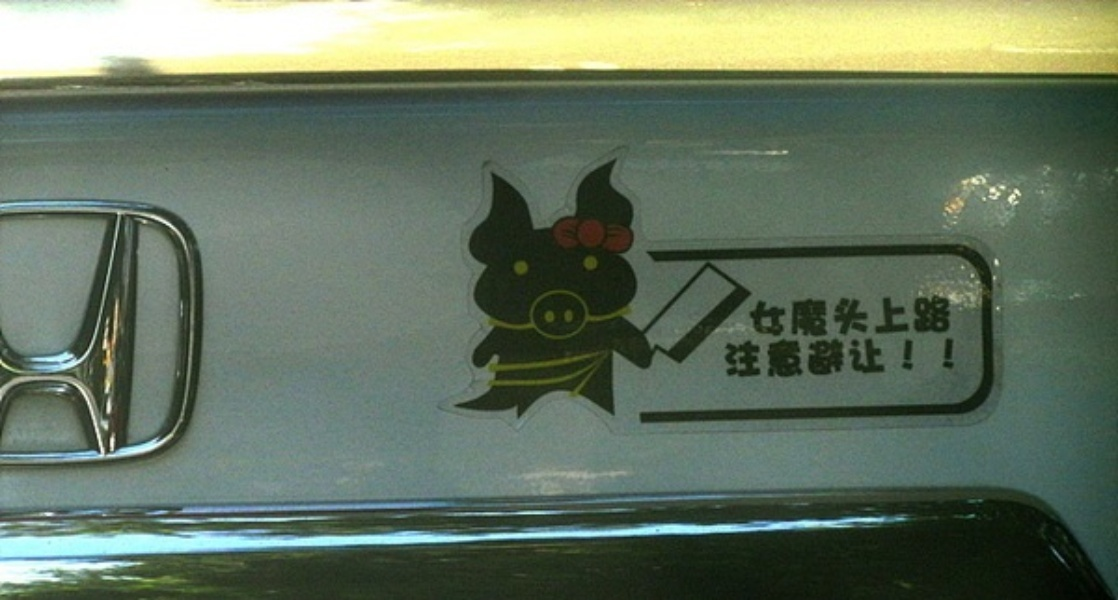text: (737, 332, 752, 384), (753, 332, 768, 384), (769, 332, 784, 384), (785, 332, 800, 384), (801, 332, 816, 384), (817, 332, 832, 384), (833, 332, 848, 384), (849, 332, 864, 384), (865, 332, 880, 384), (881, 332, 896, 384), (897, 332, 912, 384), (913, 332, 928, 384), (929, 332, 944, 384), (945, 332, 960, 384), (753, 289, 768, 340), (769, 289, 784, 340), (785, 289, 800, 340), (801, 289, 816, 340), (817, 289, 832, 340), (833, 289, 848, 340), (849, 289, 864, 340), (865, 289, 880, 340), (881, 289, 896, 340), (897, 289, 912, 340), (913, 289, 928, 340), (929, 289, 944, 340), (723, 332, 736, 384), (945, 289, 955, 340), (961, 332, 968, 384), (746, 289, 752, 340)
